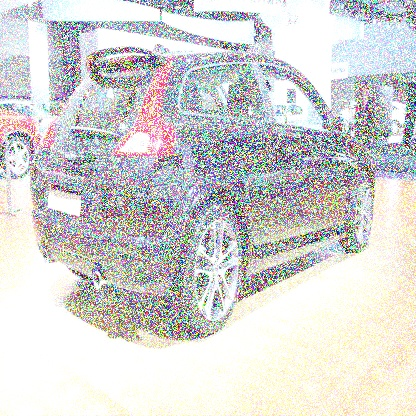Vehicle: (29, 47, 375, 338)
